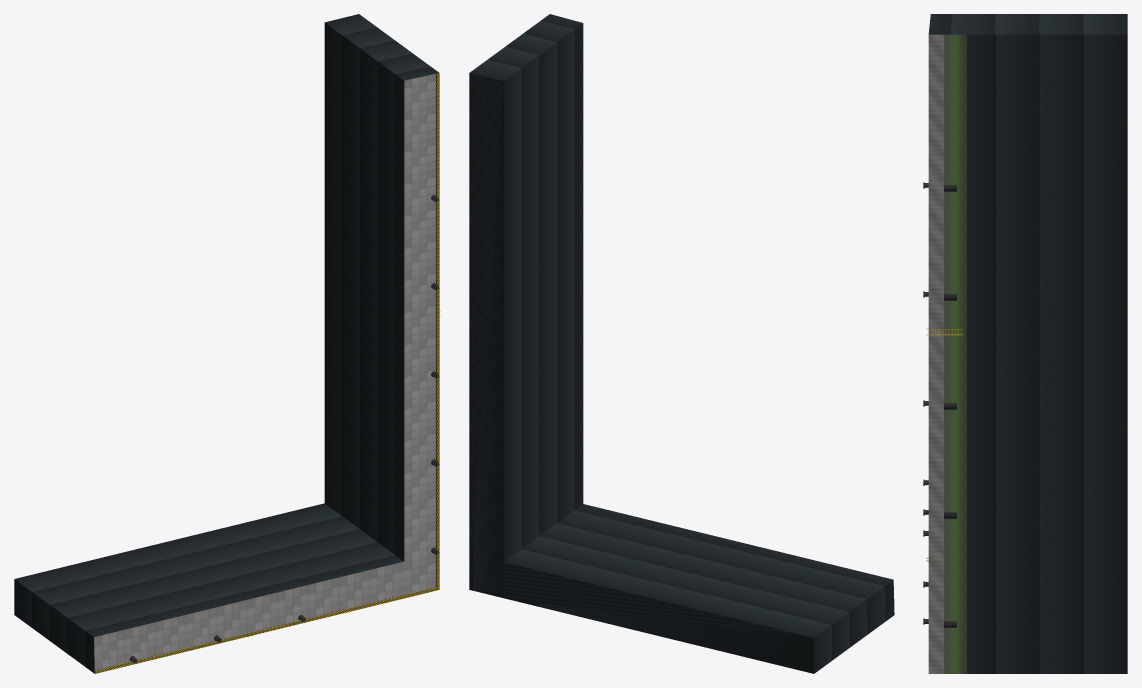
The model's file is outer_breakwater_2.obj.
The picture shows the model from 3 angles, left to right: view 1: azimuth 30°, elevation 25°; view 2: azimuth 150°, elevation 25°; view 3: azimuth 270°, elevation 25°; orthographic projection. The views are drawn at different scales.
Size of the model in its own units: 45.3 by 64.8 by 18.68.
Materials: 8 (8 with a texture image).
